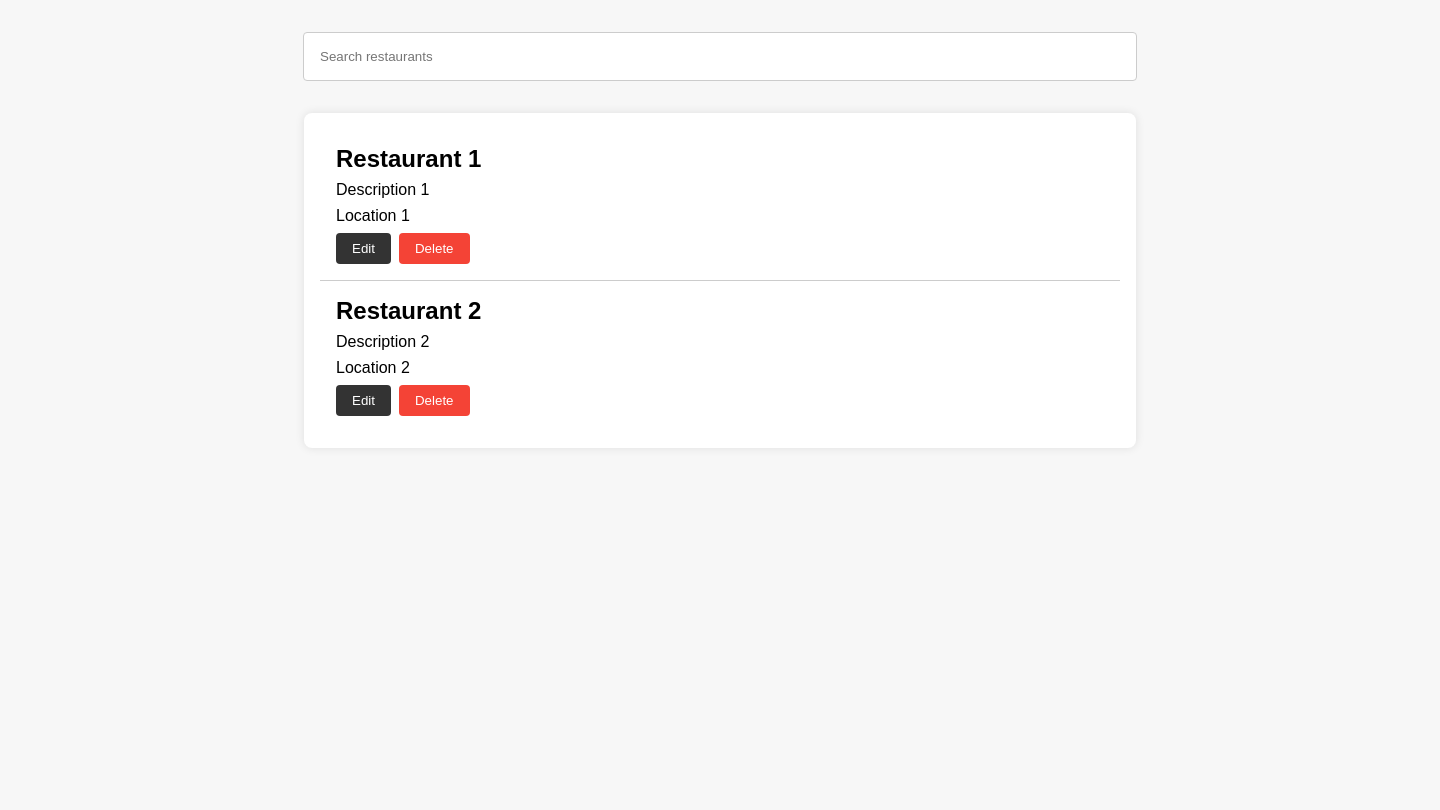
RestaurantList Component › opens the modal with restaurant details when a restaurant is clicked
Click the heading "Restaurant 1".
click(409, 158)  # box [336, 145, 481, 172]
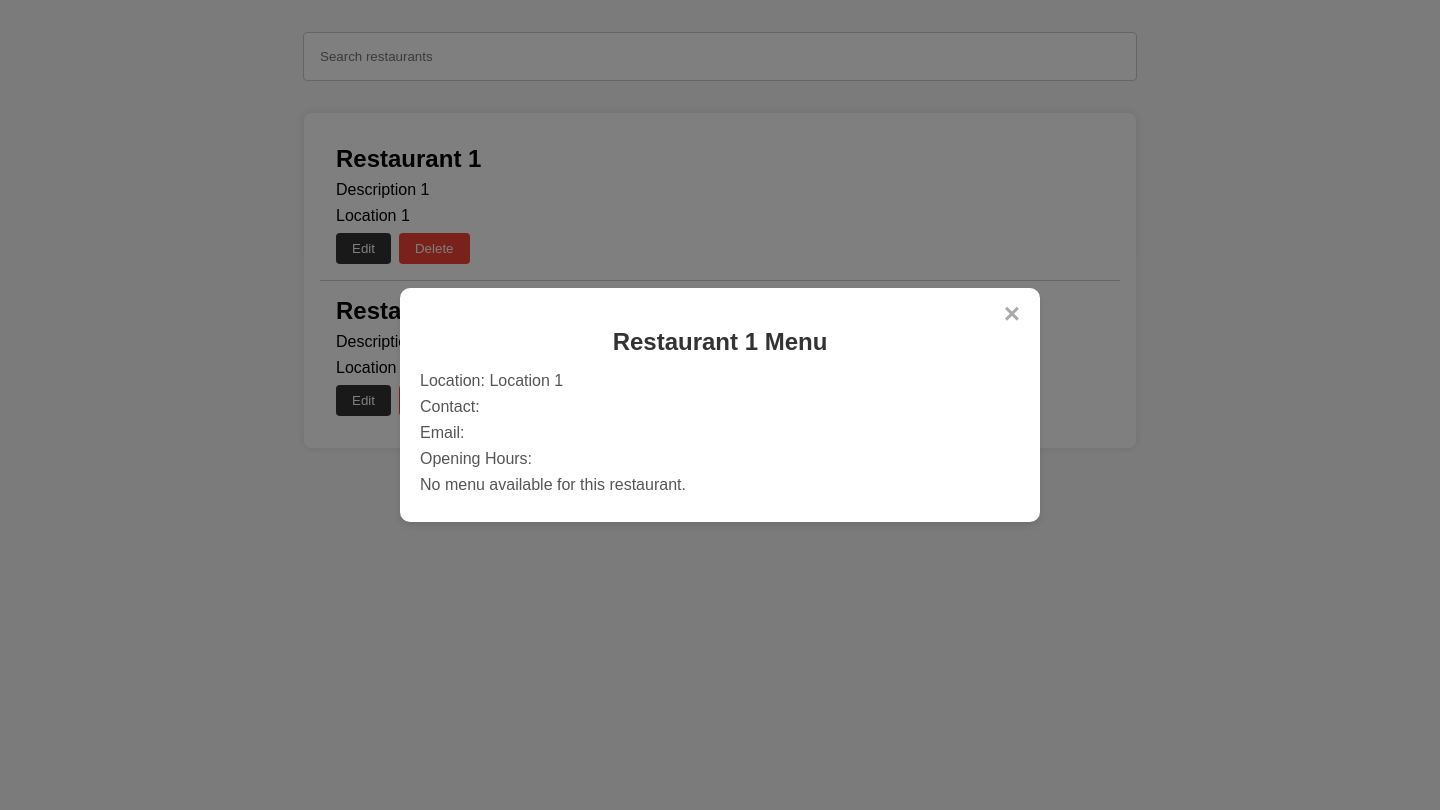
Expected: the dialog is shown
